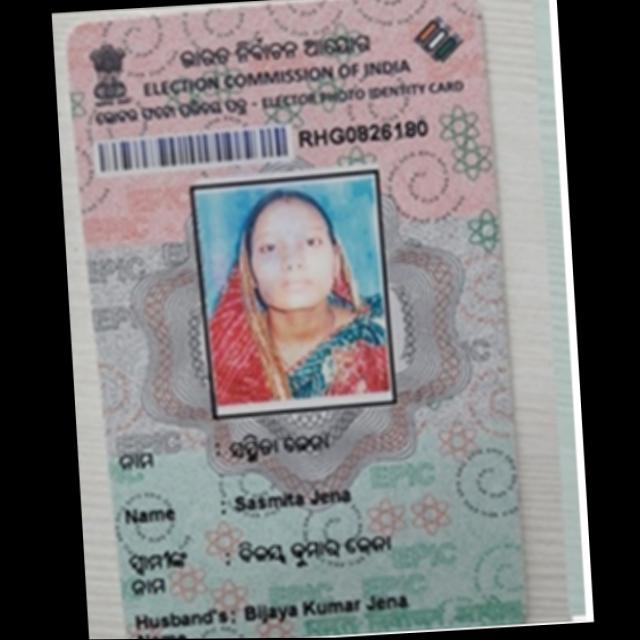voter_id: (57, 0, 536, 640)
